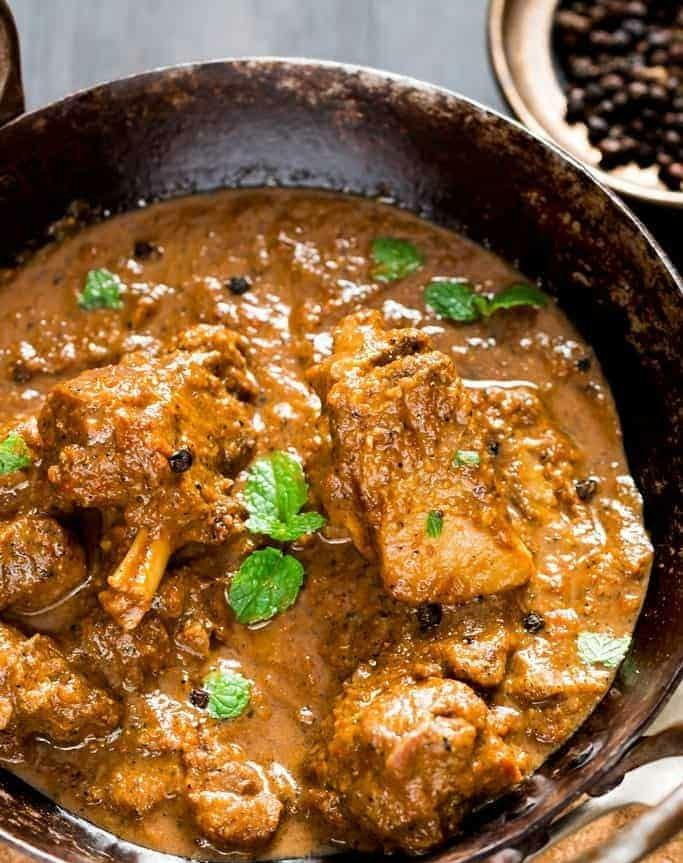MuttonCurry: (0, 185, 652, 863)
